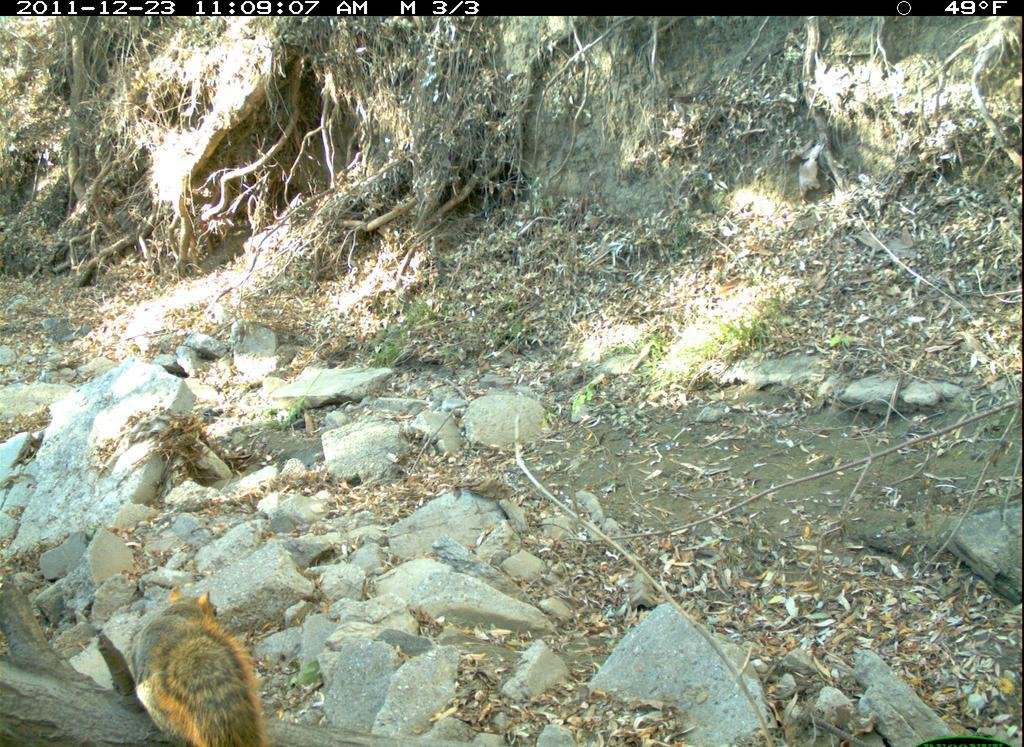squirrel: (126, 569, 276, 745)
